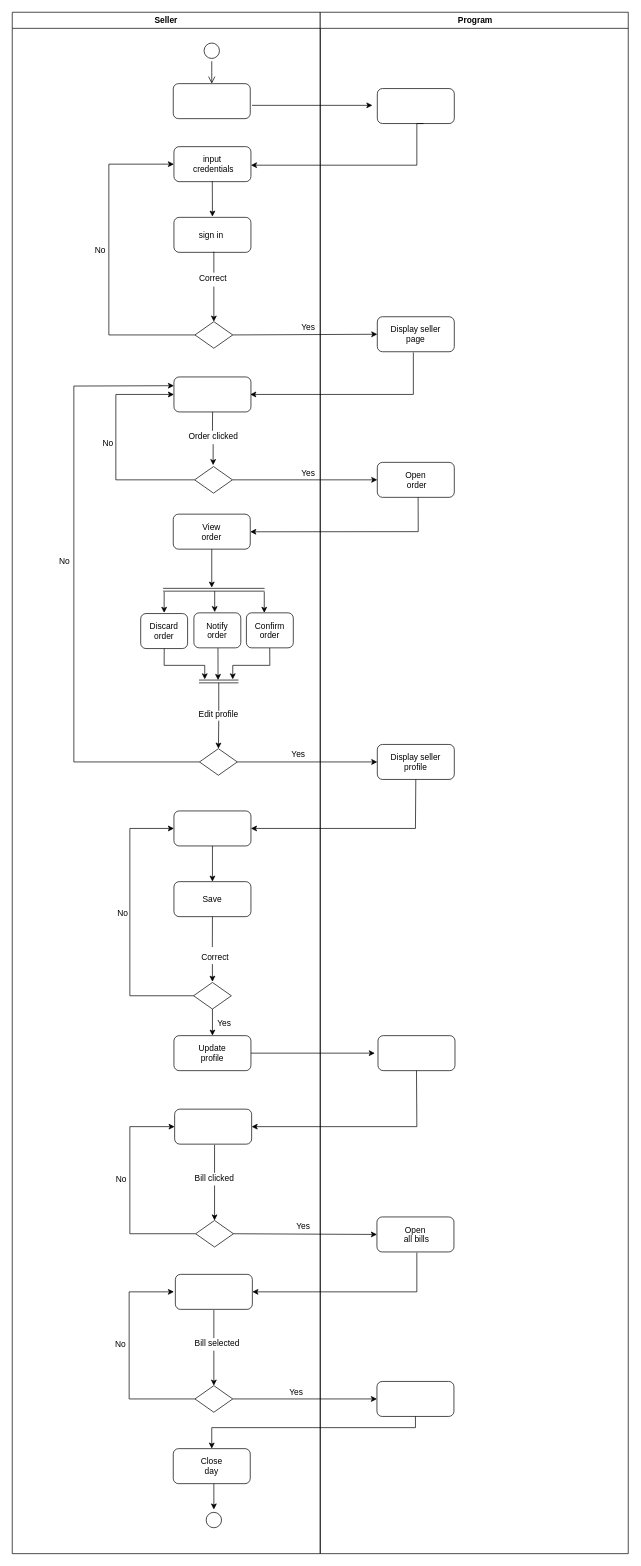
Some shapes in this 641 by 1566 pixel diagram are drawn without their labels. Each missing label, with the centre of its shape:
"Display seller main page" goes at (416,1053).
"Open bill details" goes at (415,1398).
"Reenter credentials" goes at (212,828).
"seller enters application" goes at (211,101).
"Show login interface" goes at (415,106).
"View all orders" goes at (212,394).
"View bills of all days" goes at (213,1291).
"View page" goes at (213,1126).
